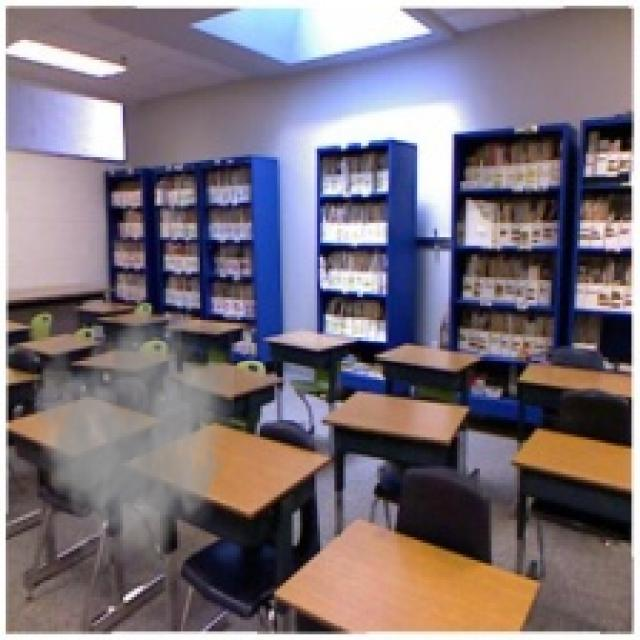smoke: (20, 303, 234, 577)
